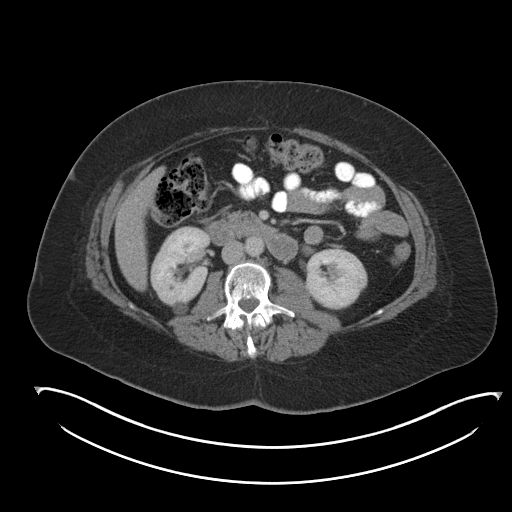Lesion: (166, 301, 189, 317)
